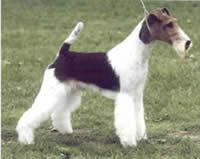wire-haired_fox_terrier: (14, 7, 195, 150)
